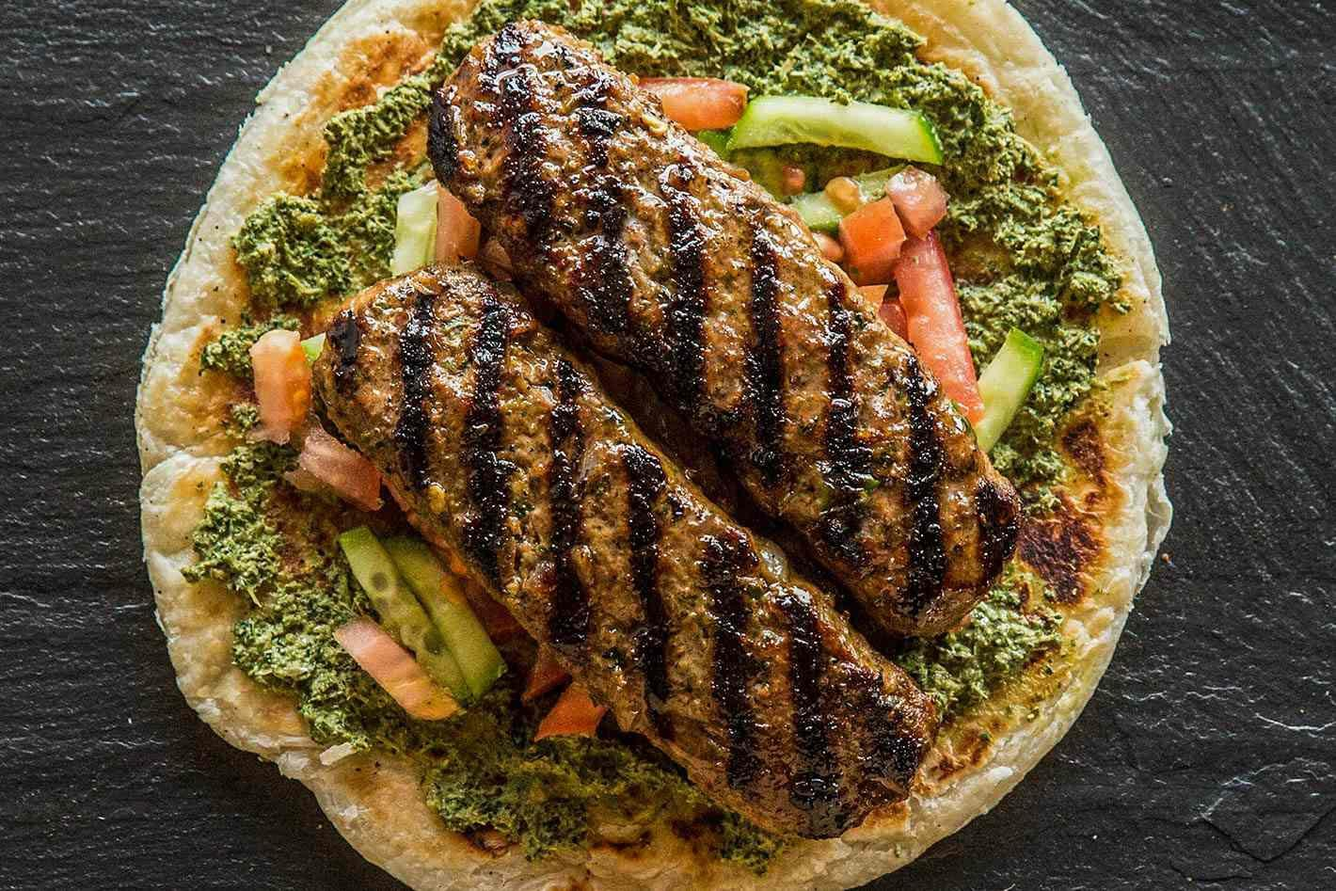Kebab: (429, 24, 1016, 637), (311, 268, 939, 840)
